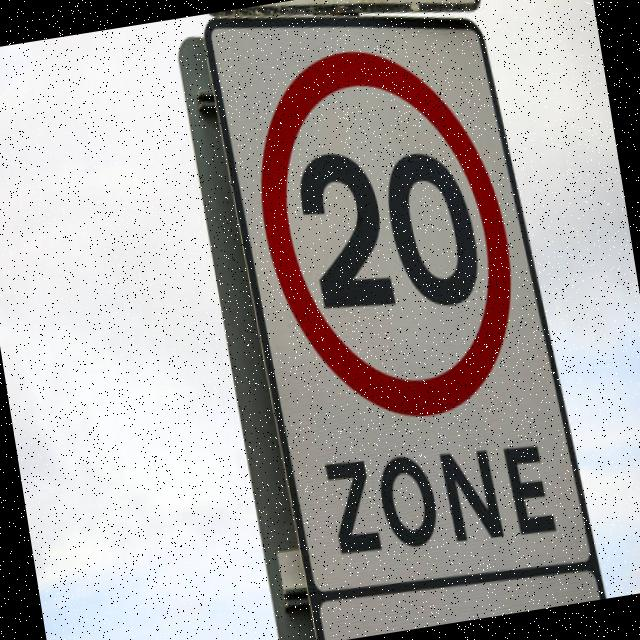speed_limit_20: (234, 24, 543, 441)
